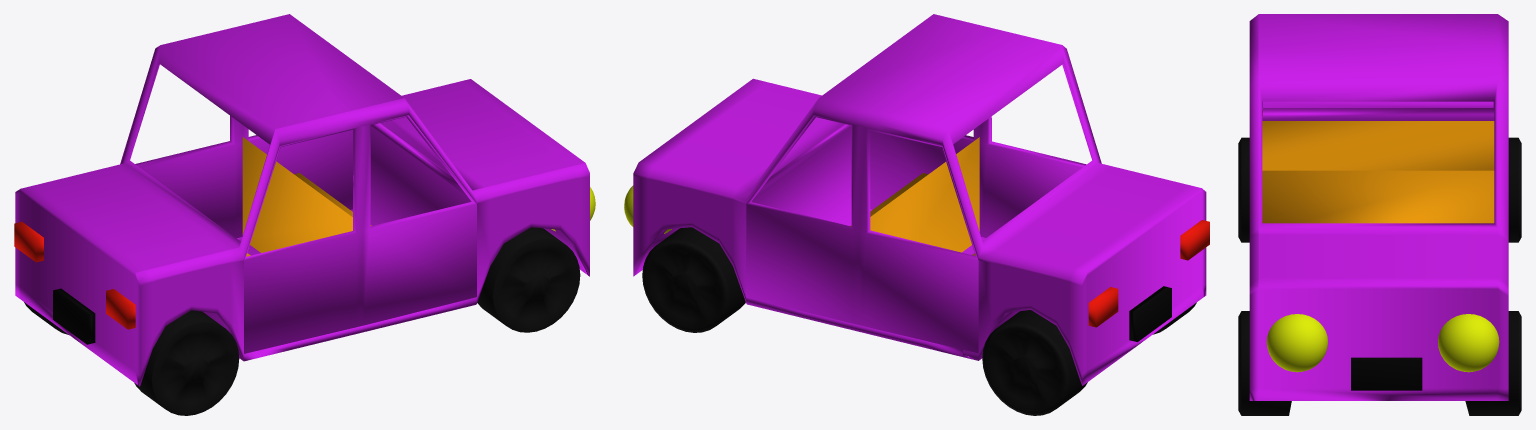
File: car3.fbx
3 renders of one model, left to right at view 1: azimuth 30°, elevation 25°; view 2: azimuth 150°, elevation 25°; view 3: azimuth 270°, elevation 25°, orthographic. The views are drawn at different scales.
Parts seen in each view (by area): view 1: body, frontwheel, backwheel, backnumber, backlight.001, backlight; view 2: body, frontwheel, backwheel, backnumber, backlight.001, backlight; view 3: body, frontwheel, frontlight, frontlight.001, backwheel, frontnumber.
Boxes of the visible parts, x1,y1,x2,y2 form: body: [15, 14, 589, 386]; frontwheel: [477, 227, 580, 332]; backwheel: [24, 302, 239, 415]; backnumber: [53, 288, 95, 344]; backlight.001: [14, 221, 43, 262]; backlight: [106, 289, 135, 329]; body: [633, 14, 1206, 385]; frontwheel: [642, 227, 745, 332]; backwheel: [982, 302, 1196, 415]; backnumber: [1129, 286, 1171, 341]; backlight.001: [1088, 287, 1118, 327]; backlight: [1180, 220, 1209, 260]; body: [1249, 14, 1508, 400]; frontwheel: [1238, 311, 1521, 415]; frontlight: [1438, 314, 1499, 372]; frontlight.001: [1266, 314, 1327, 372]; backwheel: [1238, 137, 1521, 242]; frontnumber: [1351, 357, 1422, 390].
Size of the model in its own units: 914 by 466 by 445.
